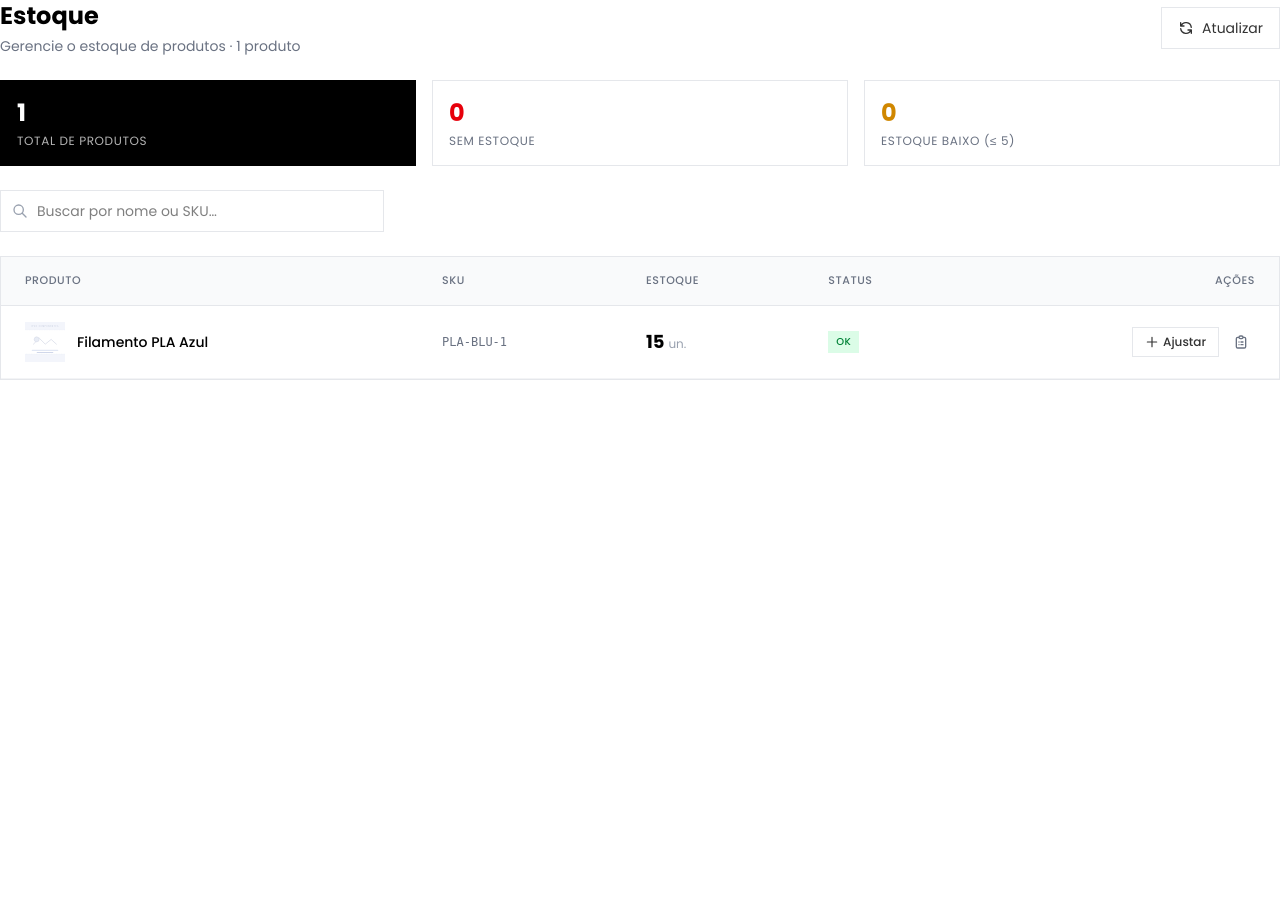
Test case: Painel de Estoque Administrativo (UI) › deve renderizar o histórico de movimentações com os saldos calculados
This screenshot has width=1280, height=900.
Click the button titled "Ver histórico": click(1241, 342) [1227,328,1255,356]
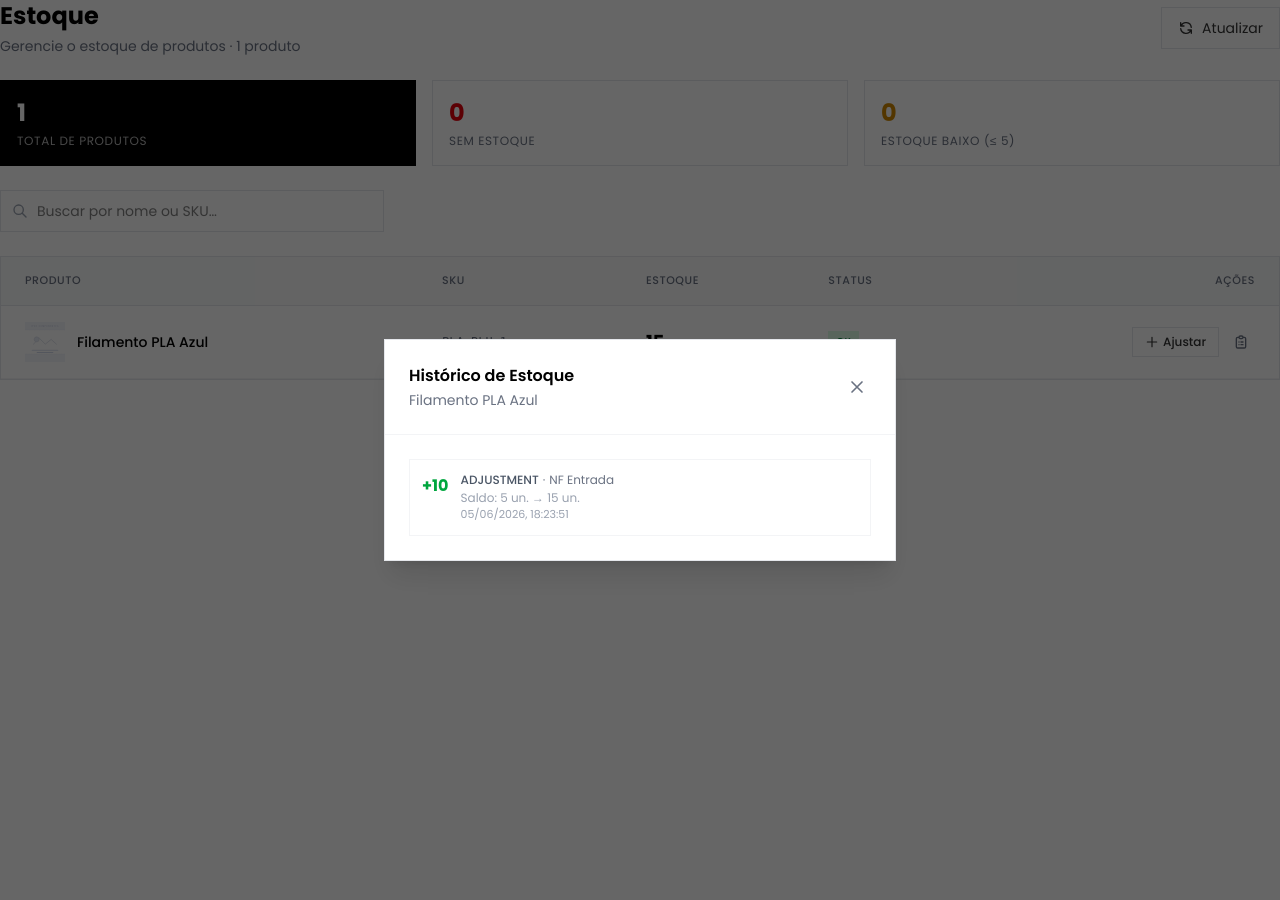
Result: the heading "Histórico de Estoque" is shown at [409,364,574,388]
Result: the text "NF Entrada" is shown at [549,471,614,488]
Result: the text "+10" is shown at [422,474,448,498]
